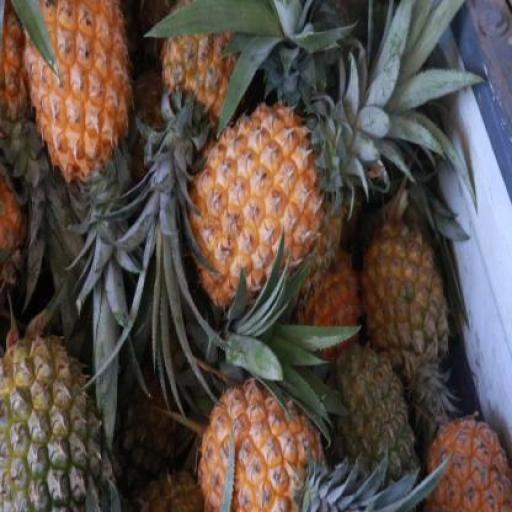------------------------------: (0, 336, 112, 511), (360, 215, 447, 387)
Pineapple - v8 v1: (182, 107, 332, 318), (22, 0, 133, 185), (197, 375, 316, 511), (428, 415, 511, 511)
